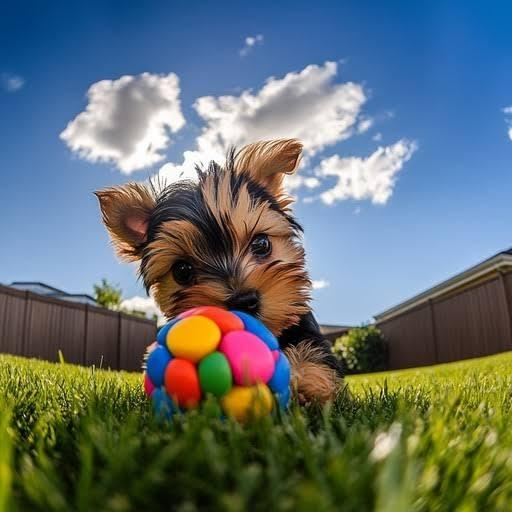puppy-dog: (95, 139, 344, 409)
